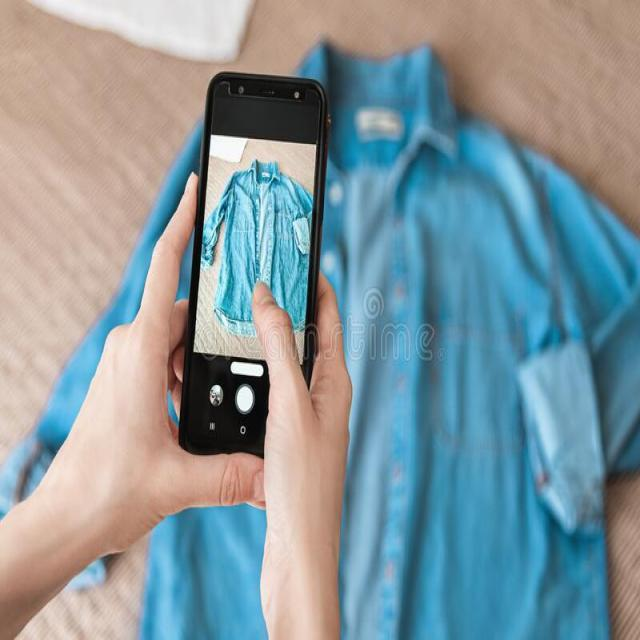clothes: (225, 158, 305, 328)
